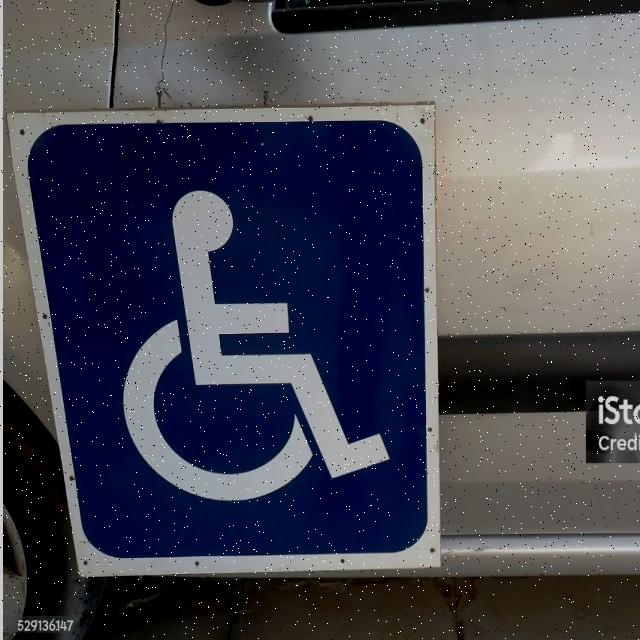symbol_of_access: (4, 97, 445, 582)
